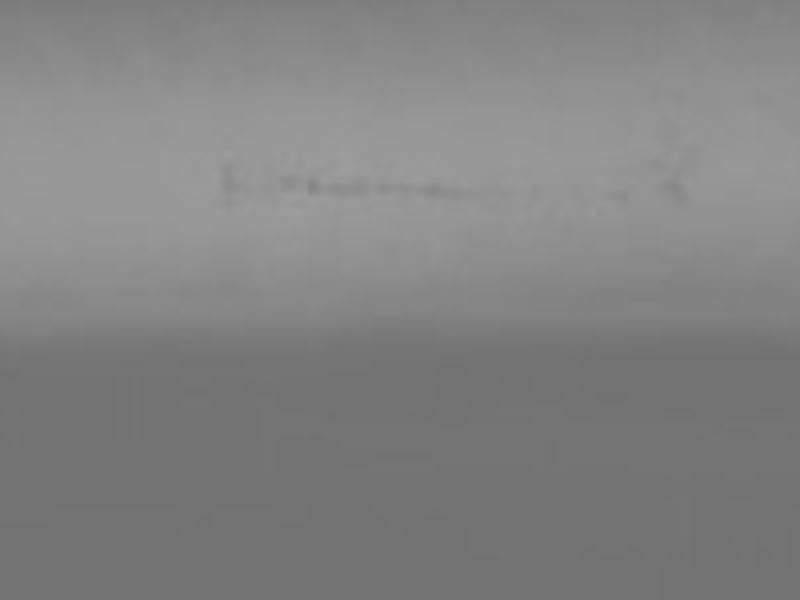defect: (305, 170, 364, 202), (373, 173, 450, 195), (214, 162, 246, 206), (658, 176, 689, 211), (274, 168, 299, 199), (610, 186, 630, 204)
